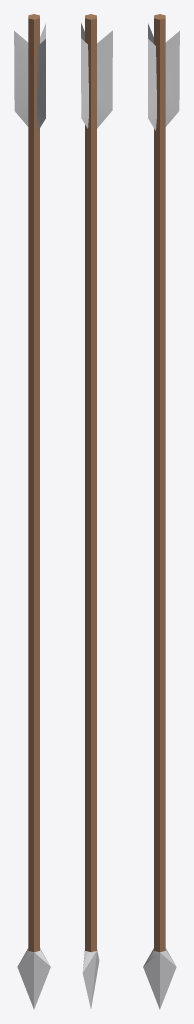
Rendered from ranger_arrow.fbx.
3 views of the same model, side by side, from view 1: azimuth 90°, elevation 25°; view 2: azimuth 150°, elevation 25°; view 3: azimuth 270°, elevation 25° (orthographic).
Parts seen in each view (by area): view 1: ranger_arrow; view 2: ranger_arrow; view 3: ranger_arrow.
Part boxes in pixels (x1,y1,x2,y2): ranger_arrow: (14, 14, 50, 1009); ranger_arrow: (81, 14, 112, 1008); ranger_arrow: (143, 14, 179, 1009).
Bounding box in the file's own units: 0.0162 × 0.4793 × 0.0161.
